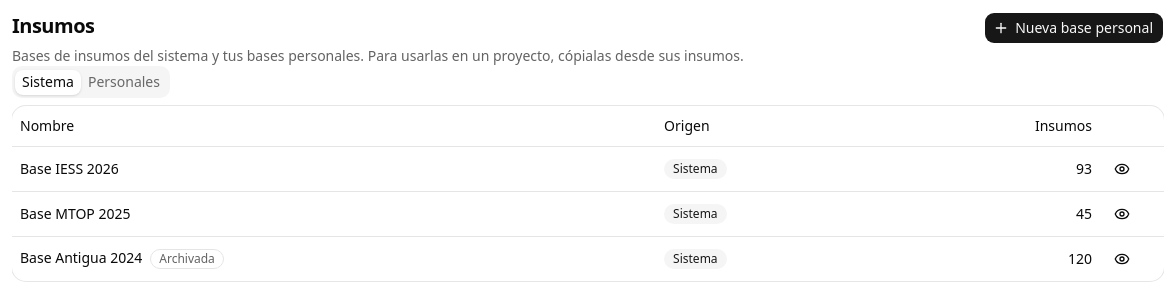
sección global de insumos › lista bases del sistema y, en su pestaña, las personales
Expected: the text "Base IESS 2026" is shown, [12,146,656,191]
Click the tab "Personales" at x=124, y=82, box [81,70,167,94]
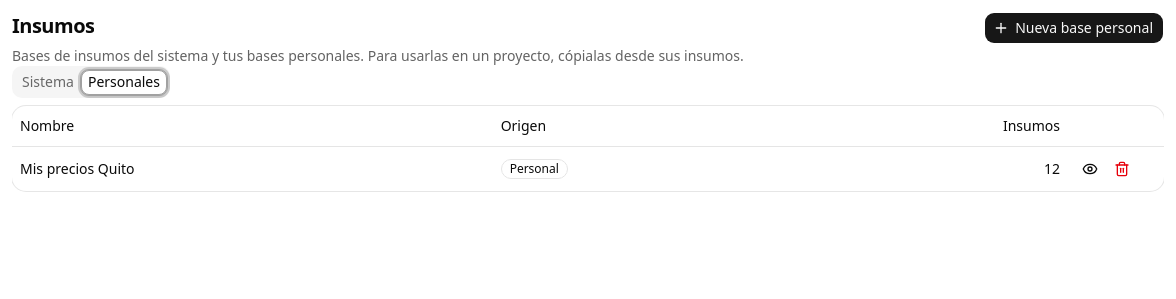
Now the text "Mis precios Quito" is shown, box [12,146,493,190]
